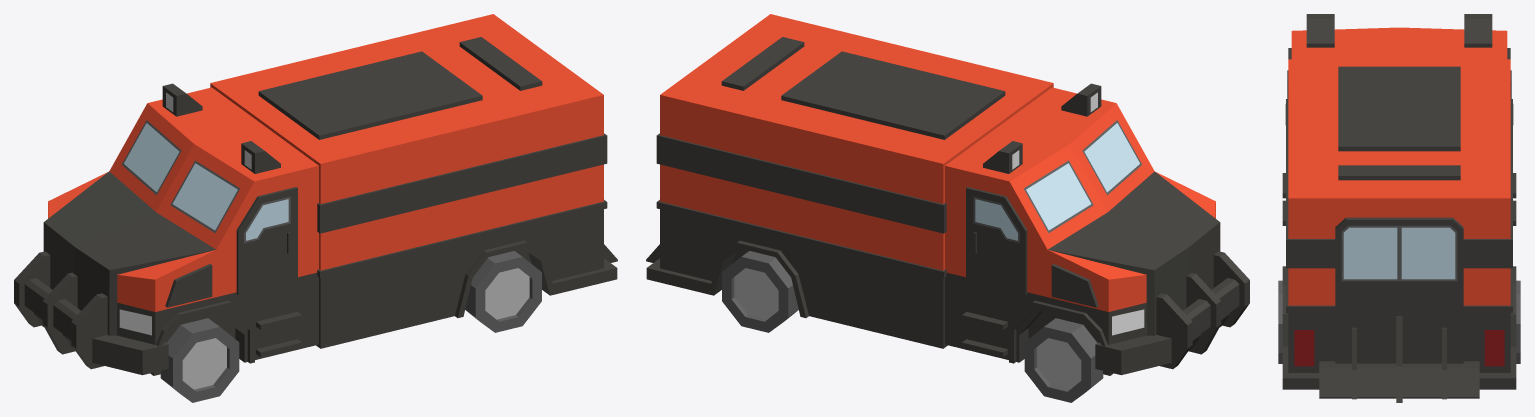
File: Main_Truck_1.fbx
The picture shows the model from 3 angles, left to right: view 1: azimuth 30°, elevation 25°; view 2: azimuth 150°, elevation 25°; view 3: azimuth 270°, elevation 25°; orthographic projection.
Parts seen in each view (by area): view 1: Main_Truck_1; view 2: Main_Truck_1; view 3: Main_Truck_1.
Boxes of the visible parts, box(x1,y1,x2,y2) form: Main_Truck_1: box(14, 14, 617, 402); Main_Truck_1: box(646, 14, 1249, 402); Main_Truck_1: box(1278, 14, 1520, 402).
Bounding box in the file's own units: 10.11 × 3.98 × 3.87.
1 material, 1 textured.
